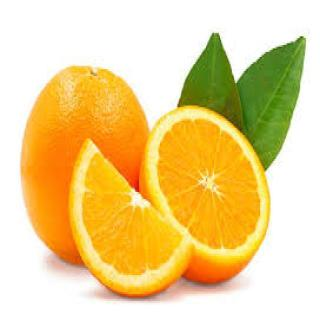orange: (11, 59, 157, 284), (148, 86, 266, 320), (60, 139, 192, 317)
